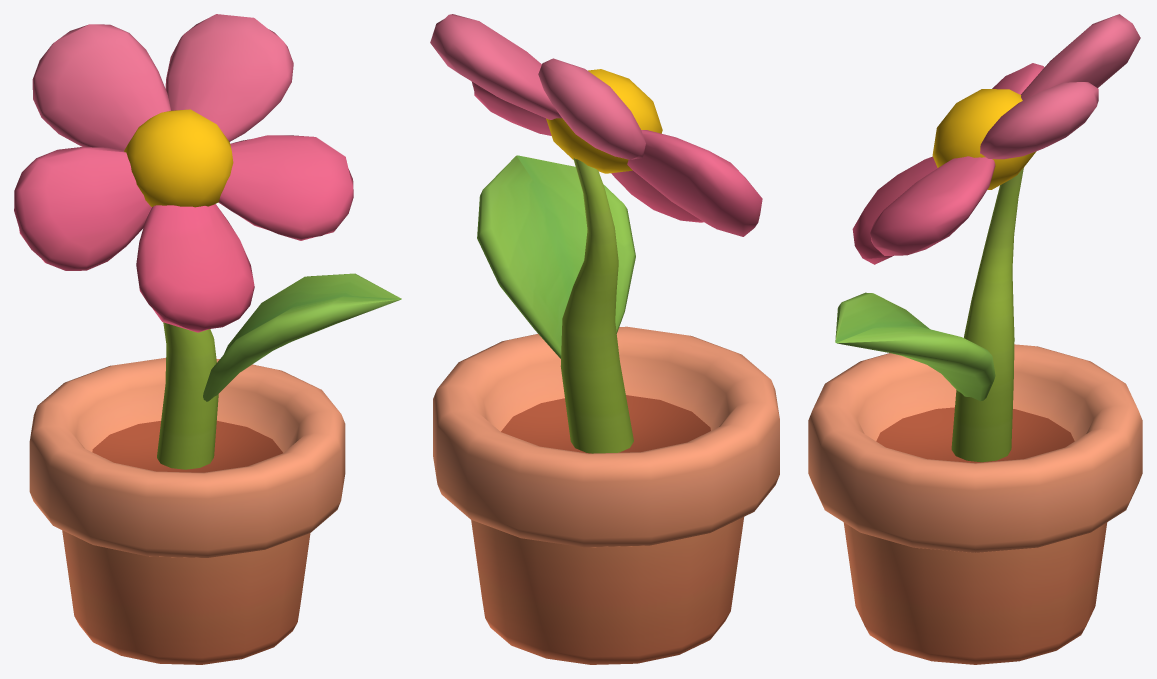
Rendered from Plants_05.glb.
The picture shows the model from 3 angles, left to right: view 1: azimuth 30°, elevation 25°; view 2: azimuth 150°, elevation 25°; view 3: azimuth 270°, elevation 25°; orthographic projection. The views are drawn at different scales.
Visible parts, largest first — view 1: Plants_05; view 2: Plants_05; view 3: Plants_05.
Part boxes in pixels (x1=…): Plants_05: x1=14, y1=14, x2=401, y2=664; Plants_05: x1=430, y1=14, x2=779, y2=664; Plants_05: x1=808, y1=14, x2=1142, y2=664.
Bounding box in the file's own units: 0.1349 × 0.2403 × 0.124.
Materials: 1 (1 with a texture image).
